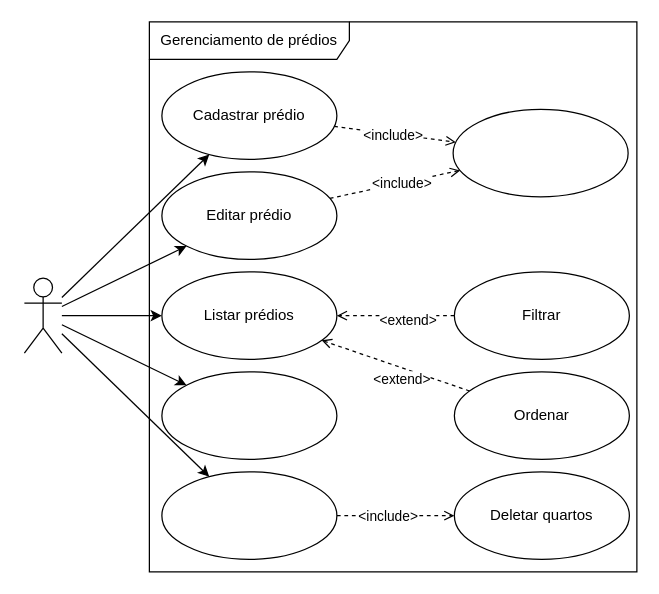
Some shapes in this 659 by 594 pixel diagram are drawn without their labels. The centre of each missing label's shape, as x and y in pixels:
"Admin" belongs at point (42, 315).
"Deletar prédio" belongs at point (249, 515).
"Validar informações" belongs at point (540, 152).
"Ver prédio" belongs at point (249, 415).
